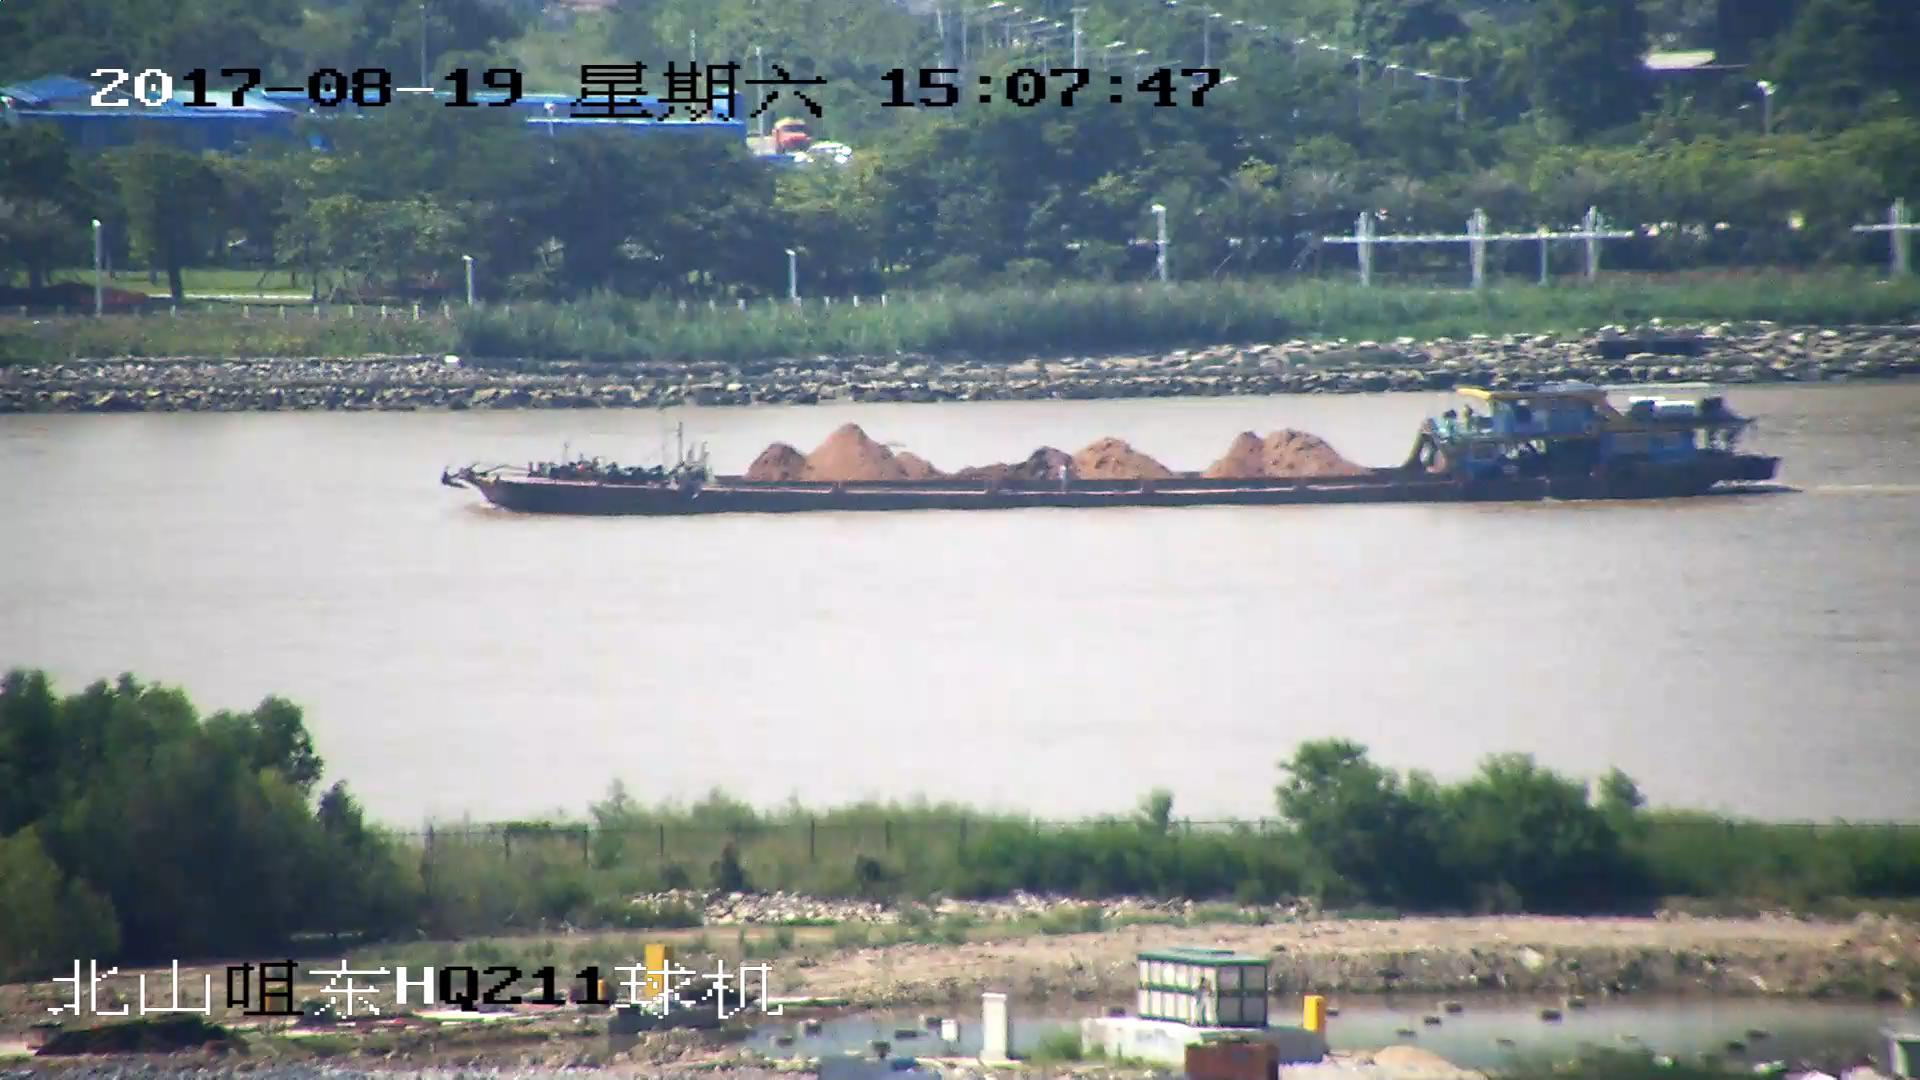Ship: (438, 385, 1780, 520)
